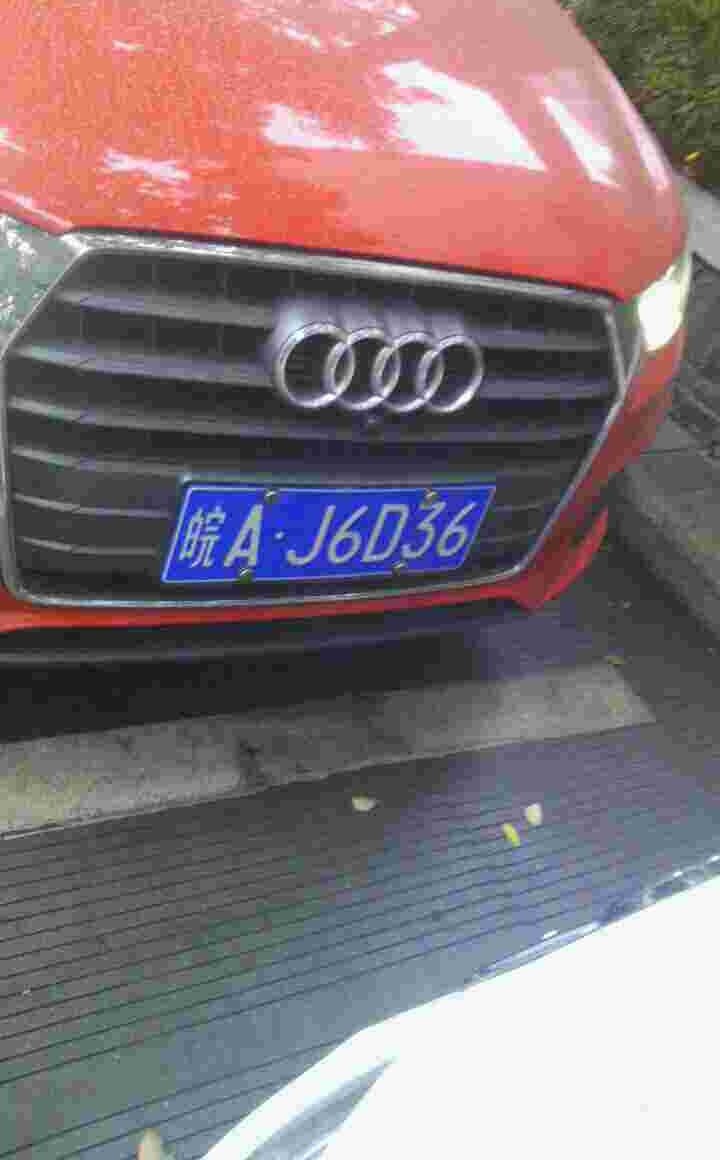license_plate: (168, 486, 498, 587)
